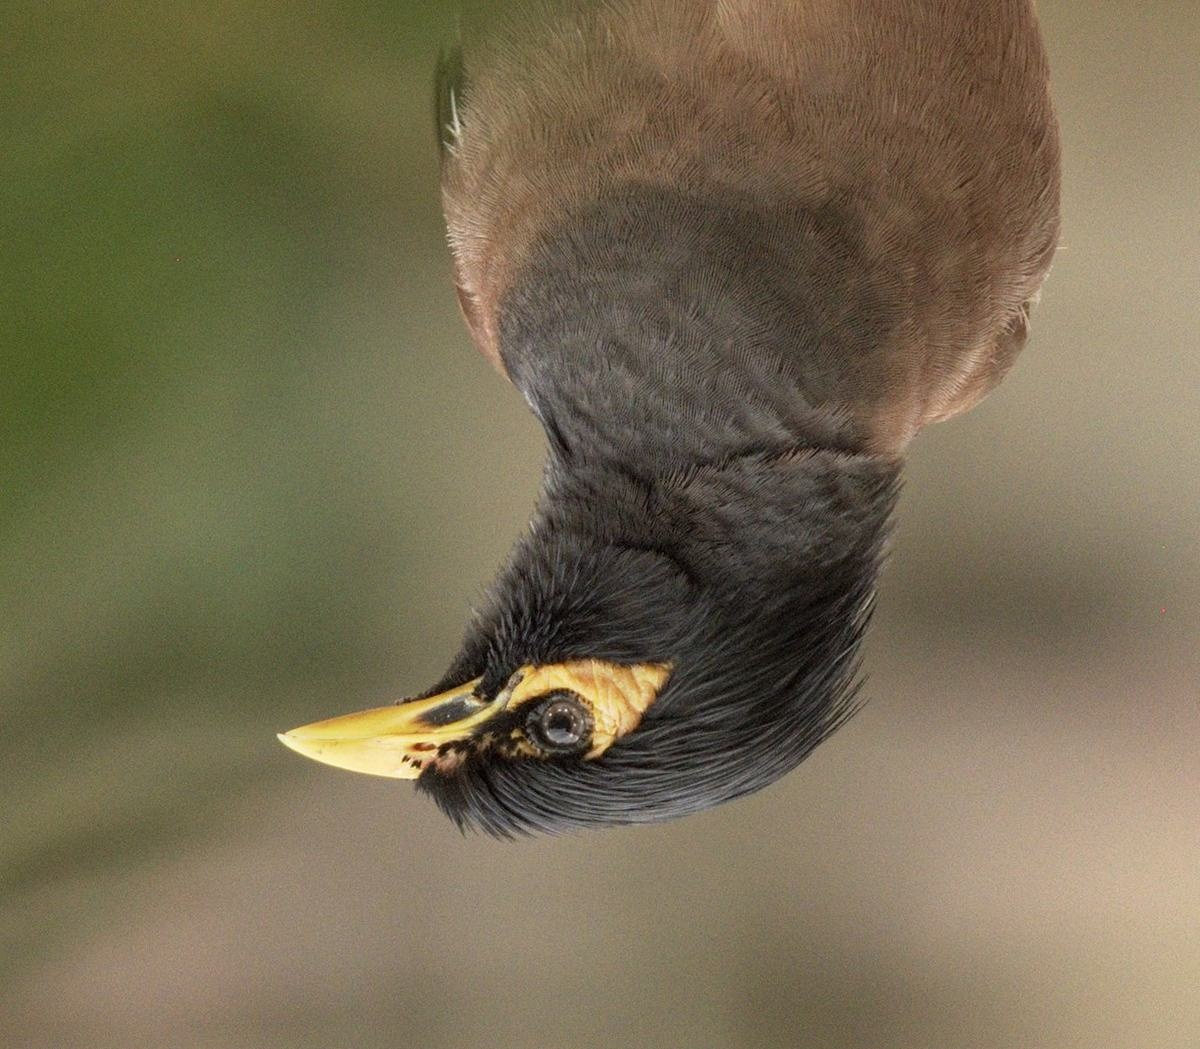myna: (247, 16, 1022, 856)
